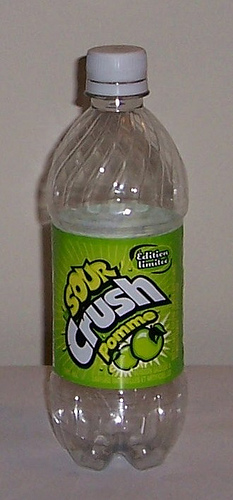emptybottle: (45, 47, 187, 468)
